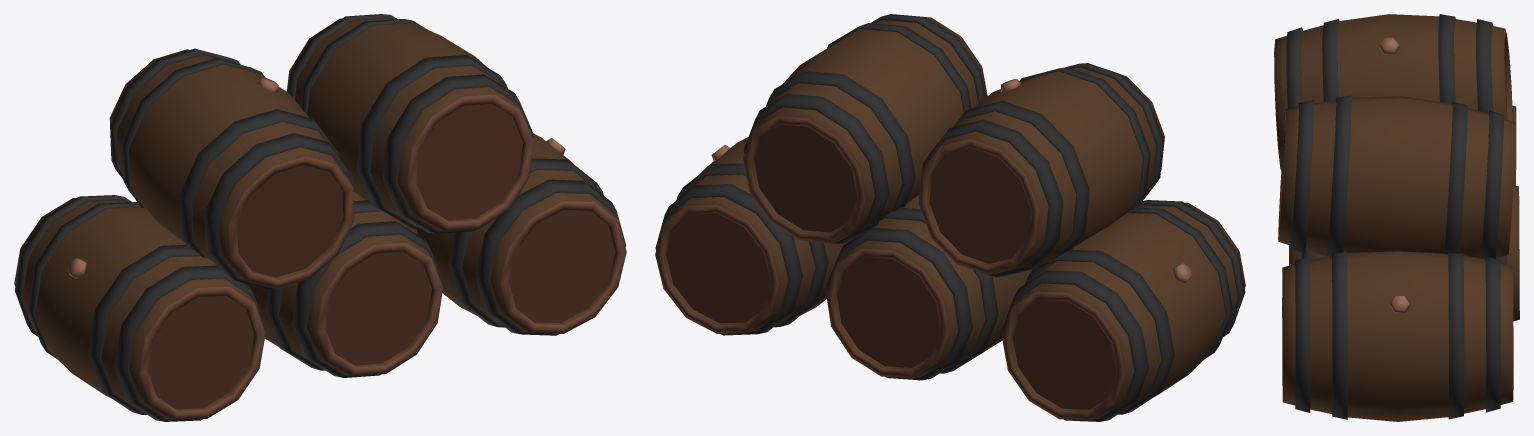
The model's file is barrel-4.glb.
3 renders of one model, left to right at view 1: azimuth 30°, elevation 25°; view 2: azimuth 150°, elevation 25°; view 3: azimuth 270°, elevation 25°, orthographic. The views are drawn at different scales.
Parts seen in each view (by area): view 1: Barrel4; view 2: Barrel4; view 3: Barrel4.
Boxes of the visible parts, <box> form: Barrel4: <box>14,14,626,421</box>; Barrel4: <box>655,14,1245,421</box>; Barrel4: <box>1274,14,1519,421</box>.
Size of what is drawn, in the model's own units: 2.31 by 1.23 by 1.02.
Materials: 1 (1 with a texture image).
